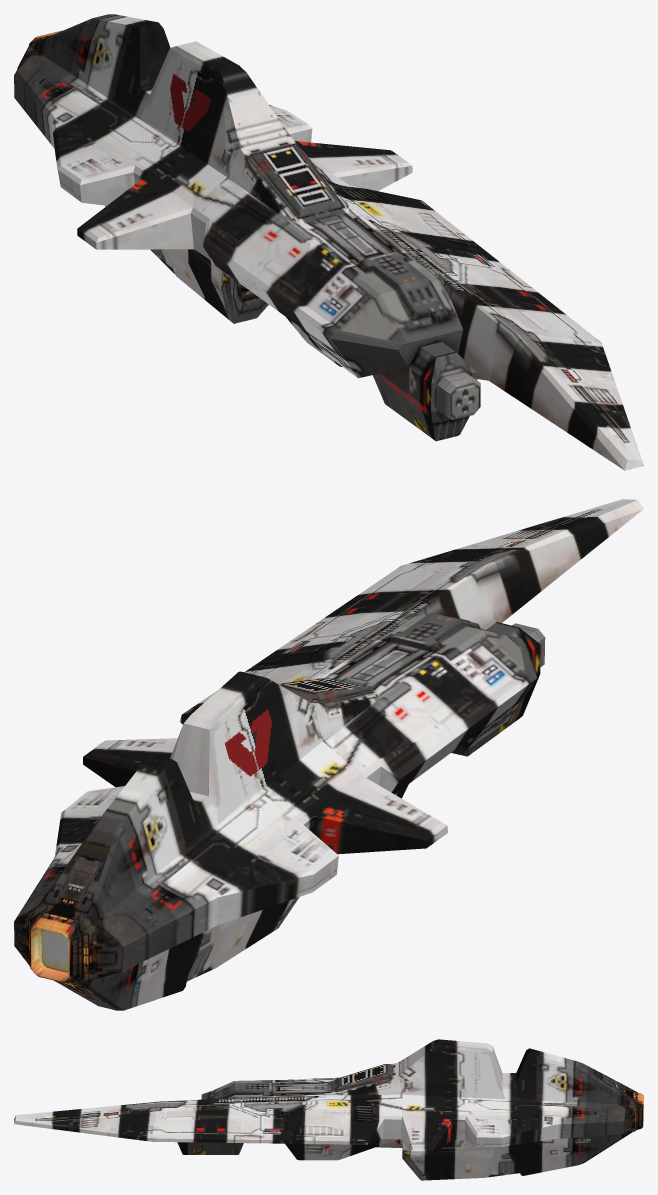
Rendered from Eriax_MK4_Fighter.FBX.
3 renders of one model, top to bottom at view 1: azimuth 30°, elevation 25°; view 2: azimuth 150°, elevation 25°; view 3: azimuth 270°, elevation 25°, orthographic. The views are drawn at different scales.
Visible parts, largest first — view 1: Assault Craft; view 2: Assault Craft; view 3: Assault Craft.
Boxes of the visible parts, left/top/right/bottom form: Assault Craft: left=14, top=14, right=643, bottom=470; Assault Craft: left=14, top=499, right=643, bottom=1010; Assault Craft: left=14, top=1039, right=643, bottom=1180.
Bounding box in the file's own units: 8.22 × 6 × 25.3.
Materials: 5 (5 with a texture image).
